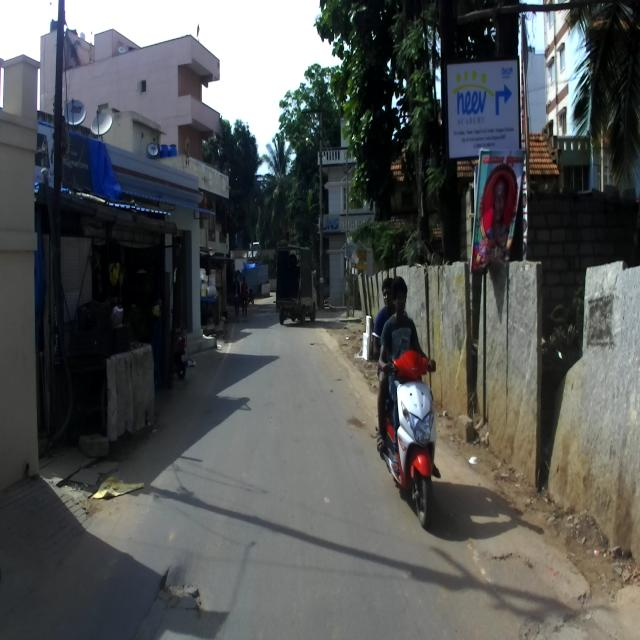car ahead at: (277, 240, 322, 336)
electric pole ahead at: (44, 0, 70, 468)
motorcycle ahead at: (377, 343, 444, 535)
